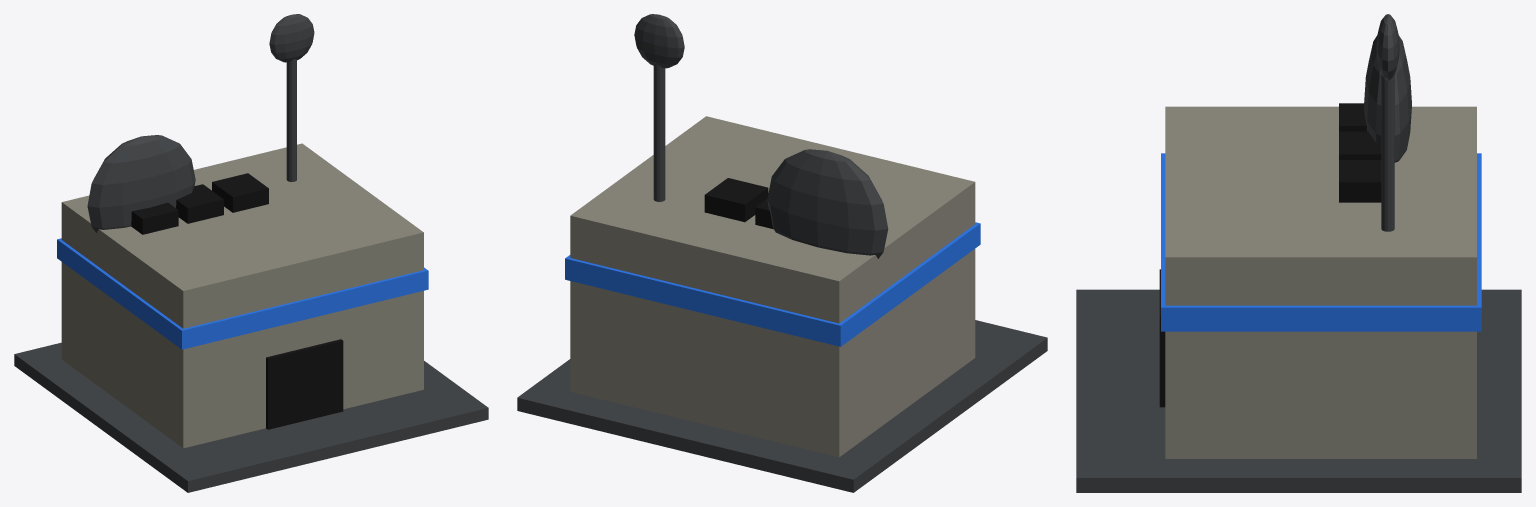
File: data_center.glb
The picture shows the model from 3 angles, left to right: view 1: azimuth 30°, elevation 25°; view 2: azimuth 150°, elevation 25°; view 3: azimuth 270°, elevation 25°; orthographic projection. The views are drawn at different scales.
Parts seen in each view (by area): view 1: main, base, team_band, dish_big, door, dish, vent_2, vent_1, mast, vent_0; view 2: main, base, team_band, dish_big, dish, vent_2, mast; view 3: main, base, team_band, dish_big, mast, vent_2, dish, vent_1, vent_0, door.
Part boxes in pixels (x1,y1,x2,y2): main: (61,143,423,448); base: (14,342,488,492); team_band: (57,238,428,349); dish_big: (87,135,195,232); door: (266,339,343,429); dish: (269,14,314,62); vent_2: (212,173,268,212); vent_1: (176,184,223,223); mast: (286,59,296,181); vent_0: (131,202,178,234); main: (570,116,975,457); base: (517,320,1047,492); team_band: (565,222,980,346); dish_big: (767,149,888,258); dish: (634,14,684,68); vent_2: (704,178,768,222); mast: (653,64,665,201); main: (1165,106,1476,458); base: (1076,289,1521,492); team_band: (1161,153,1481,331); dish_big: (1364,35,1411,162); mast: (1381,75,1394,231); vent_2: (1339,160,1381,202); dish: (1376,14,1399,80); vent_1: (1339,131,1381,159); vent_0: (1339,103,1367,131); door: (1159,269,1165,407).
Size of the model in its own units: 8 by 8.5 by 8.
